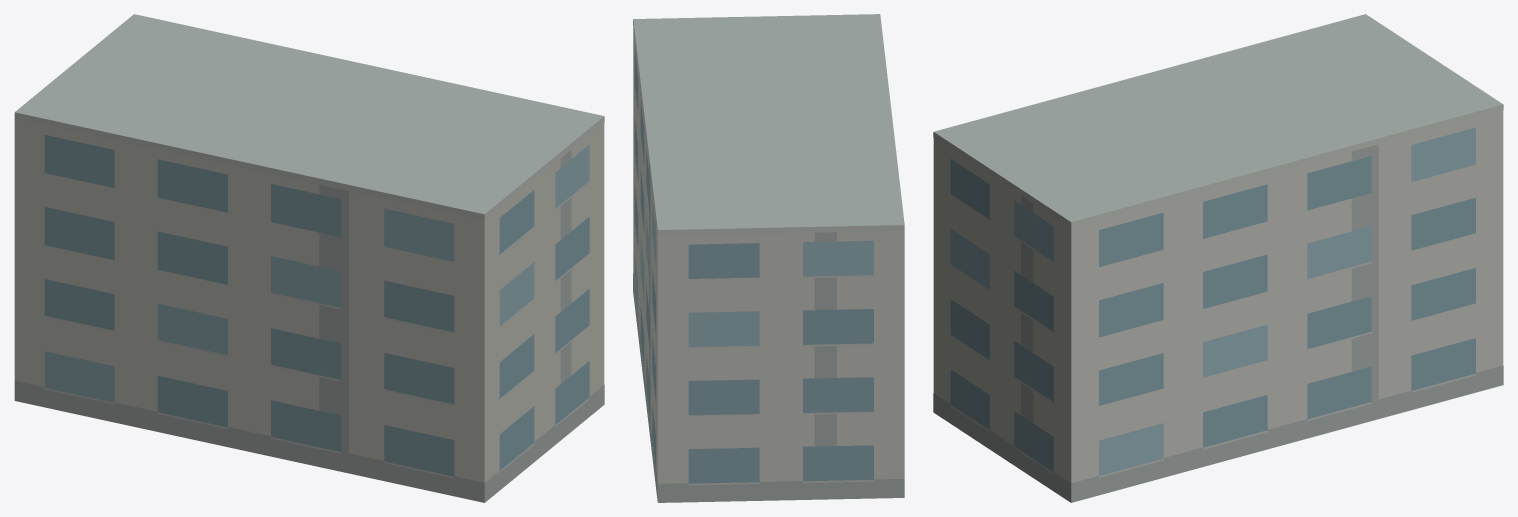
The model's file is residential-f3bb1dc6-0569-44a7-8f4f-1b89b2038248.glb.
3 renders of one model, left to right at view 1: azimuth 30°, elevation 25°; view 2: azimuth 150°, elevation 25°; view 3: azimuth 270°, elevation 25°, orthographic. The views are drawn at different scales.
Visible parts, largest first — view 1: residential-f3bb1dc6-0569-44a7-8f4f-1b89b2038248.tmp; view 2: residential-f3bb1dc6-0569-44a7-8f4f-1b89b2038248.tmp; view 3: residential-f3bb1dc6-0569-44a7-8f4f-1b89b2038248.tmp.
Part boxes in pixels (<box>): residential-f3bb1dc6-0569-44a7-8f4f-1b89b2038248.tmp: <box>14,14,604,502</box>; residential-f3bb1dc6-0569-44a7-8f4f-1b89b2038248.tmp: <box>633,14,904,502</box>; residential-f3bb1dc6-0569-44a7-8f4f-1b89b2038248.tmp: <box>933,14,1503,502</box>.
Bounding box in the file's own units: 18.33 × 11.52 × 21.21.
